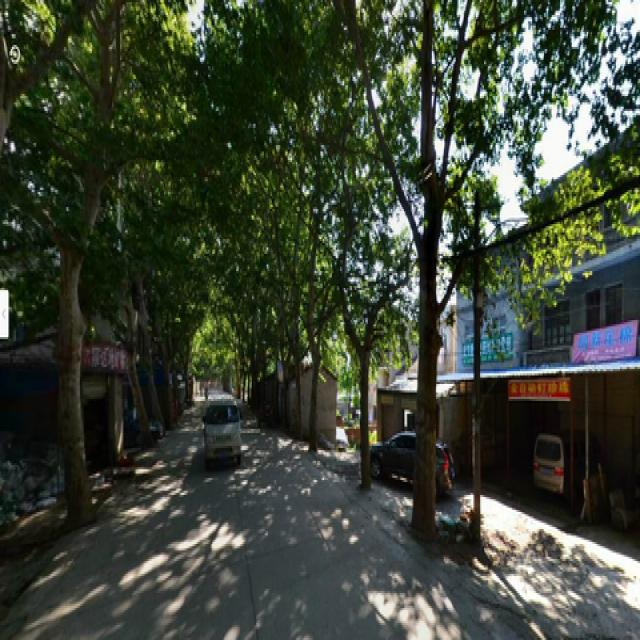meta: (27, 26, 132, 501), (392, 23, 480, 510), (319, 44, 376, 473)
